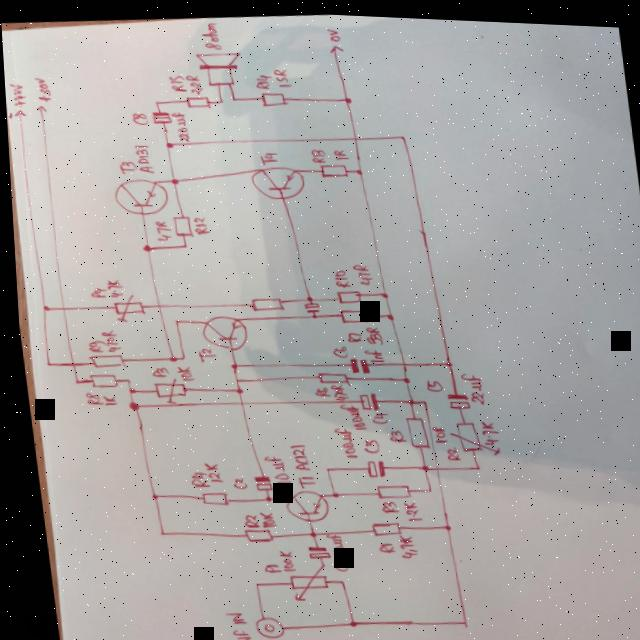capacitor: (439, 388, 465, 407), (245, 470, 266, 492), (352, 387, 374, 408), (343, 353, 366, 373), (359, 455, 381, 475), (147, 107, 171, 125), (298, 541, 323, 558), (297, 297, 317, 311)
crossover: (393, 354, 405, 364), (63, 358, 72, 367), (150, 299, 159, 308), (349, 131, 357, 139), (426, 460, 435, 467), (55, 303, 63, 310), (232, 397, 240, 404)
junction: (121, 399, 134, 410), (298, 526, 311, 536), (338, 615, 350, 625), (450, 614, 462, 624), (165, 175, 178, 184), (413, 459, 424, 469), (223, 359, 234, 369), (120, 385, 132, 394), (374, 287, 386, 296), (137, 242, 149, 251), (256, 492, 267, 501), (395, 371, 406, 380), (380, 308, 391, 317), (36, 303, 47, 312), (300, 292, 312, 300), (340, 92, 350, 101), (323, 488, 334, 496), (163, 353, 173, 361), (303, 309, 314, 316), (163, 139, 172, 147), (167, 316, 176, 324), (400, 394, 409, 402), (436, 519, 444, 527), (144, 491, 152, 499), (230, 384, 238, 392), (228, 93, 236, 101), (67, 377, 75, 385), (216, 95, 224, 103), (317, 462, 325, 470), (414, 394, 422, 402), (329, 576, 338, 583), (395, 130, 404, 137), (39, 360, 48, 367), (352, 164, 360, 171), (439, 356, 447, 363), (245, 579, 253, 586), (228, 374, 236, 381), (177, 241, 184, 247), (468, 460, 474, 466), (151, 99, 158, 104), (419, 484, 426, 489), (152, 529, 158, 534), (175, 353, 181, 358), (120, 377, 126, 381)
resistor: (441, 415, 495, 454), (279, 558, 326, 600), (106, 290, 142, 322), (146, 374, 183, 403), (400, 412, 424, 446), (368, 479, 406, 497), (84, 352, 122, 369), (315, 158, 348, 177), (245, 293, 280, 310), (257, 87, 289, 105), (81, 371, 114, 388), (193, 488, 224, 506), (310, 367, 344, 383), (363, 517, 395, 534), (333, 304, 364, 321), (236, 525, 267, 541), (168, 213, 189, 236), (330, 284, 358, 301), (182, 93, 210, 108)
terminal: (245, 613, 277, 638), (326, 40, 344, 51), (32, 103, 47, 113), (10, 108, 25, 117)
text: (215, 608, 245, 640), (256, 451, 285, 484), (326, 422, 353, 457), (456, 368, 482, 402), (333, 398, 362, 428), (129, 141, 152, 173), (197, 19, 221, 49), (282, 439, 305, 469), (168, 108, 188, 142), (30, 74, 52, 102), (390, 530, 413, 556), (473, 414, 495, 441), (317, 529, 341, 553), (96, 327, 117, 353), (196, 458, 218, 482), (164, 68, 185, 93), (6, 82, 27, 107), (270, 64, 291, 87), (149, 216, 169, 240), (350, 259, 370, 283), (395, 496, 416, 518), (359, 321, 380, 343), (101, 276, 121, 298), (269, 547, 288, 570), (183, 70, 202, 93), (187, 213, 207, 234), (327, 264, 346, 286), (182, 468, 205, 486), (357, 343, 381, 360), (191, 344, 213, 362), (124, 109, 148, 125), (414, 372, 438, 388), (324, 380, 345, 398), (367, 535, 389, 552), (252, 70, 273, 87), (289, 471, 311, 487), (251, 508, 270, 526), (170, 362, 189, 380), (355, 434, 375, 451), (235, 510, 255, 527), (325, 340, 345, 356), (425, 420, 441, 440), (381, 424, 401, 440), (114, 158, 135, 173), (437, 441, 455, 458), (306, 145, 325, 161), (84, 283, 103, 299), (79, 389, 98, 405), (364, 407, 384, 422), (82, 338, 103, 352), (372, 496, 393, 510), (324, 555, 343, 570), (340, 327, 360, 341), (256, 148, 277, 161), (329, 144, 348, 158), (145, 364, 165, 377), (308, 381, 326, 395), (225, 474, 242, 488), (325, 23, 339, 40), (96, 393, 114, 406), (255, 560, 274, 572)
transistor: (108, 174, 169, 219), (247, 161, 303, 201), (196, 310, 246, 351), (276, 484, 324, 521)
